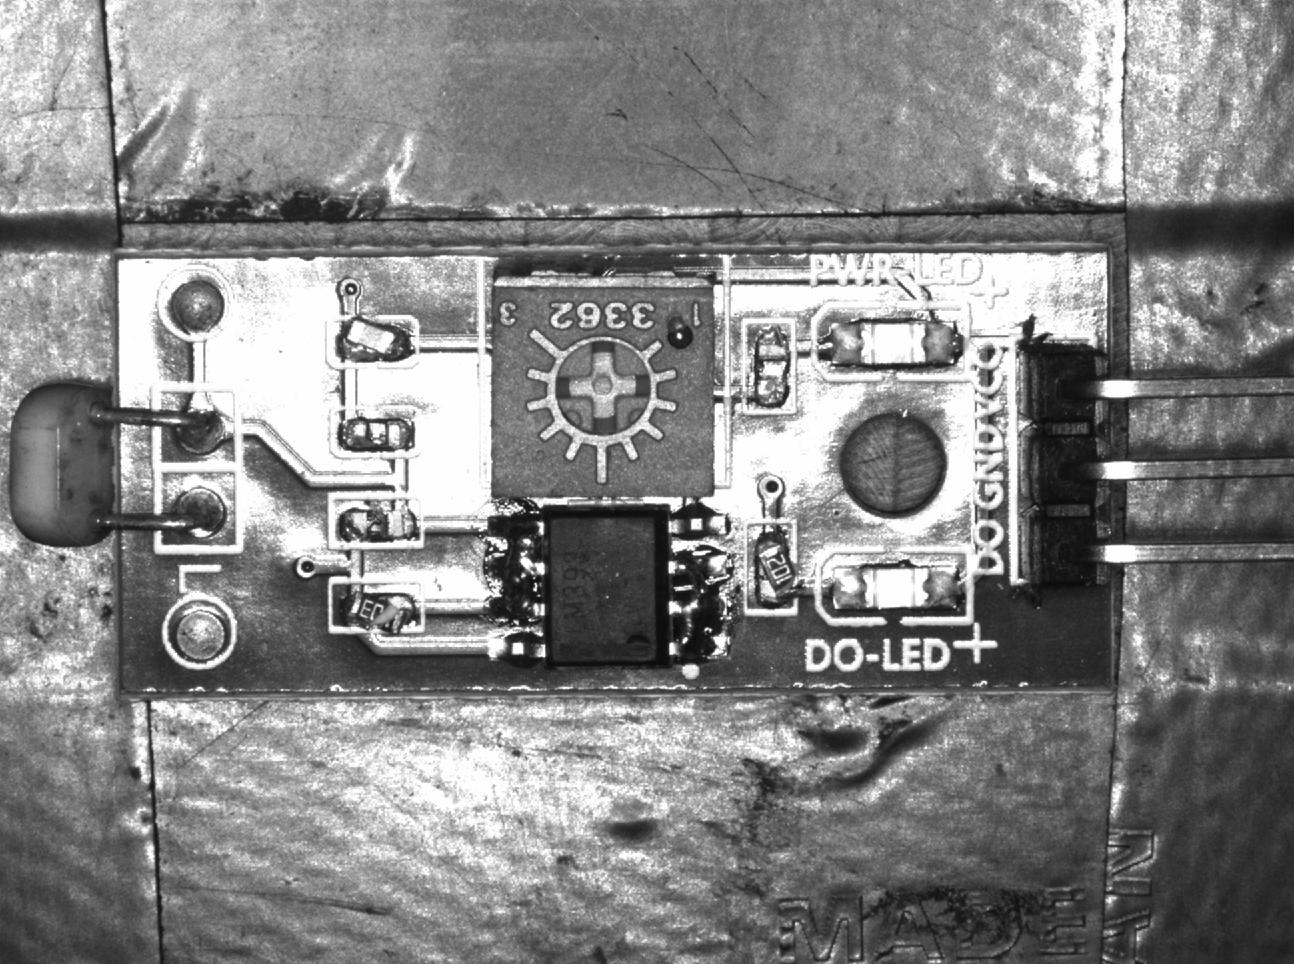bridge: (482, 502, 548, 626), (673, 545, 730, 666)
lifted: (743, 520, 802, 616), (329, 579, 423, 636), (327, 314, 418, 370)
miss: (329, 493, 424, 547), (741, 320, 794, 413)
ok: (330, 406, 421, 455)
